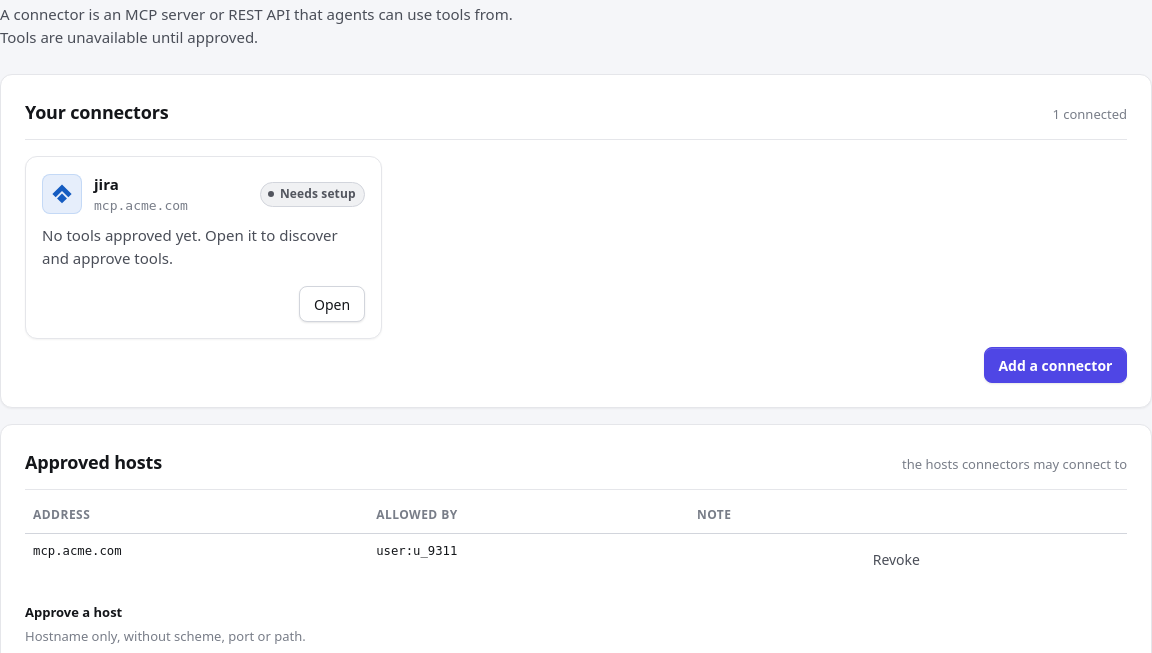
Test case: hosts › revoking is a two-step, and the first click revokes nothing
Step 1. Click the button "Revoke" → (896, 560), box [863, 542, 930, 578]
(page scrolled)
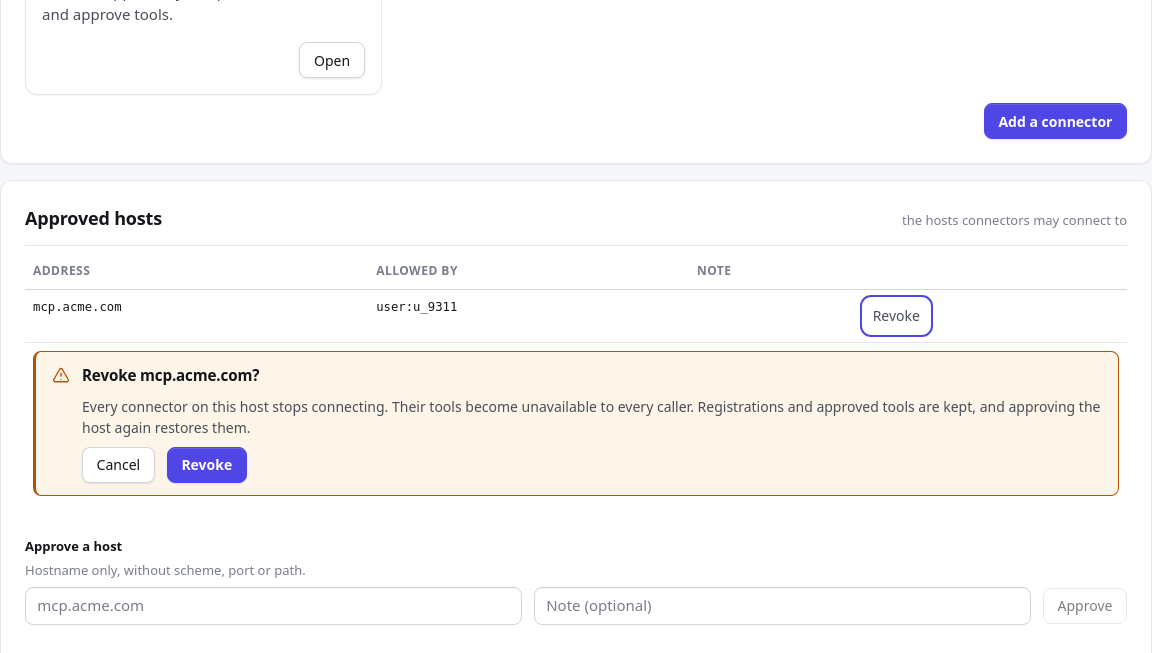
Check: the text "Every connector on this host stops connecting" is shown, box [82, 396, 1100, 437]
Step 2. Click the button "Cancel" → (118, 465), box [82, 447, 155, 483]
(page scrolled)
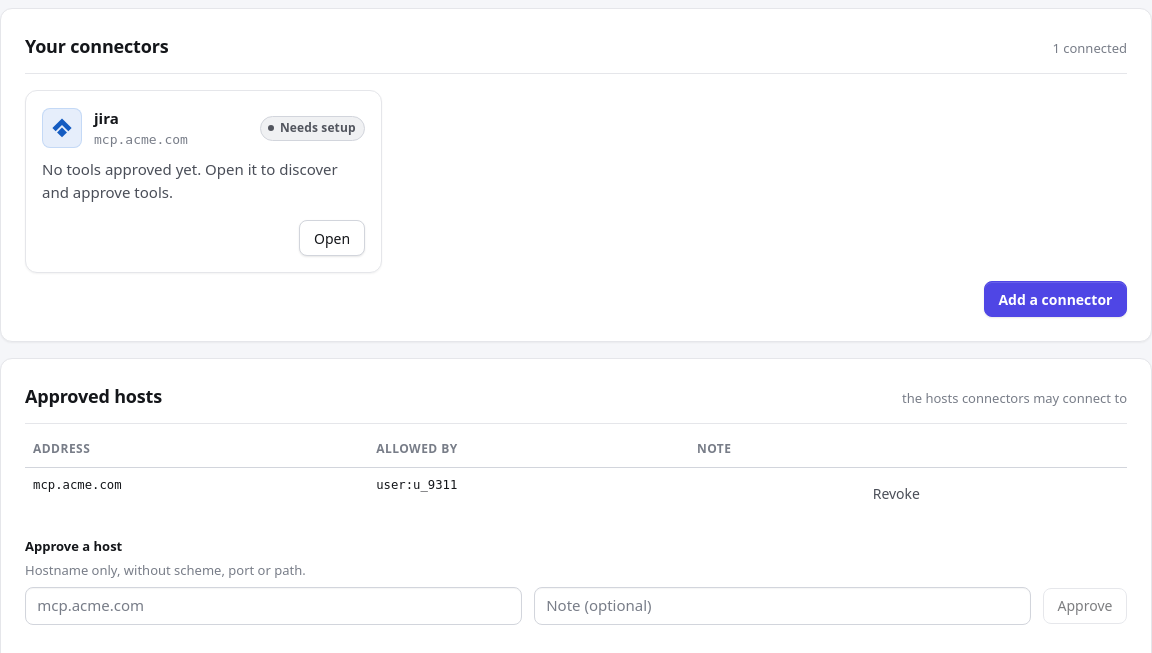
Check: the heading "Revoke mcp.acme.com?" is gone
